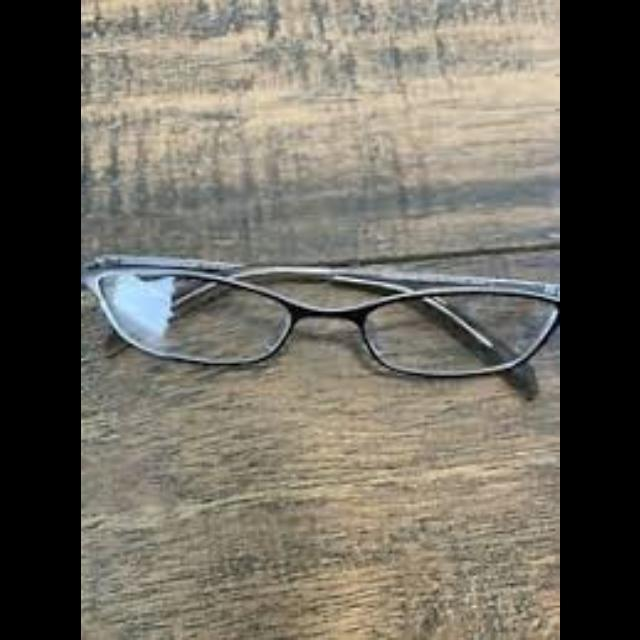glasses: (80, 250, 560, 398)
